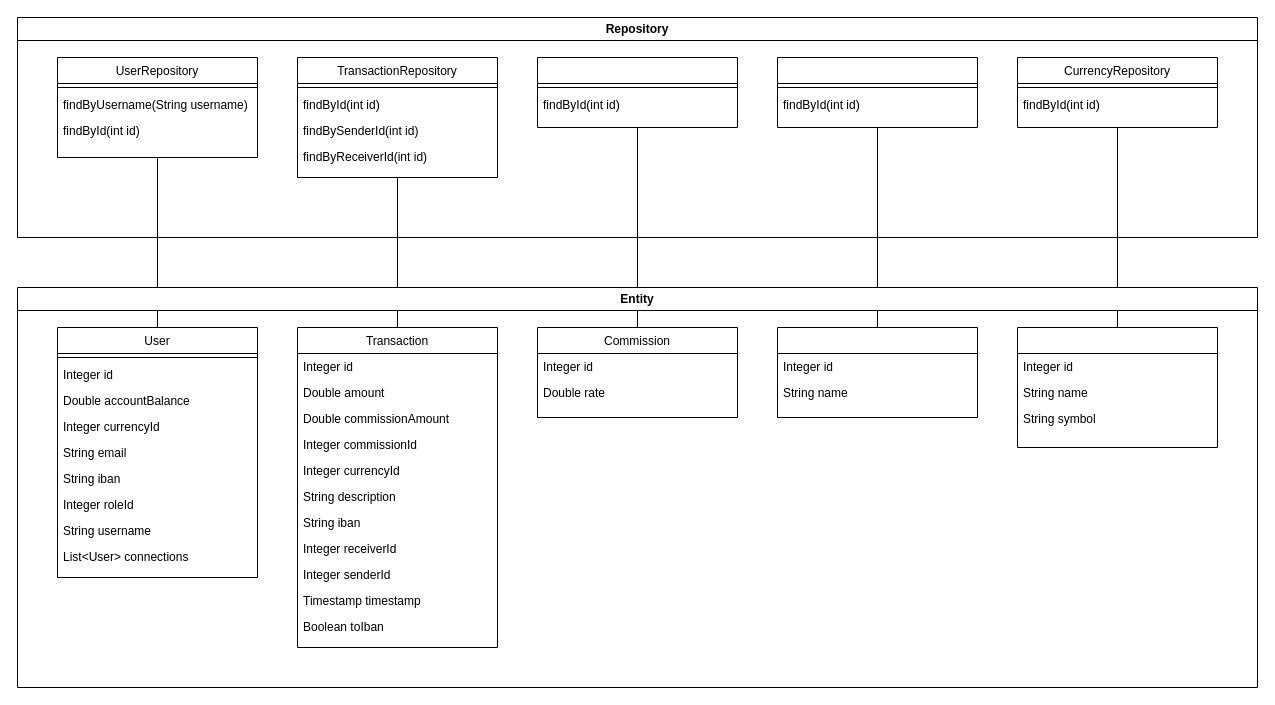
Some shapes in this 1275 by 705 pixel diagram are drawn without their labels. The shapes that lost their labels are listed below. From the top down, each one's box as (x1, y1, x2, y2) in pixels, then its label:
(536, 56, 738, 128): CommissionRepository
(776, 56, 978, 128): RoleRepository
(776, 326, 978, 418): Role
(1016, 326, 1218, 448): Currency
